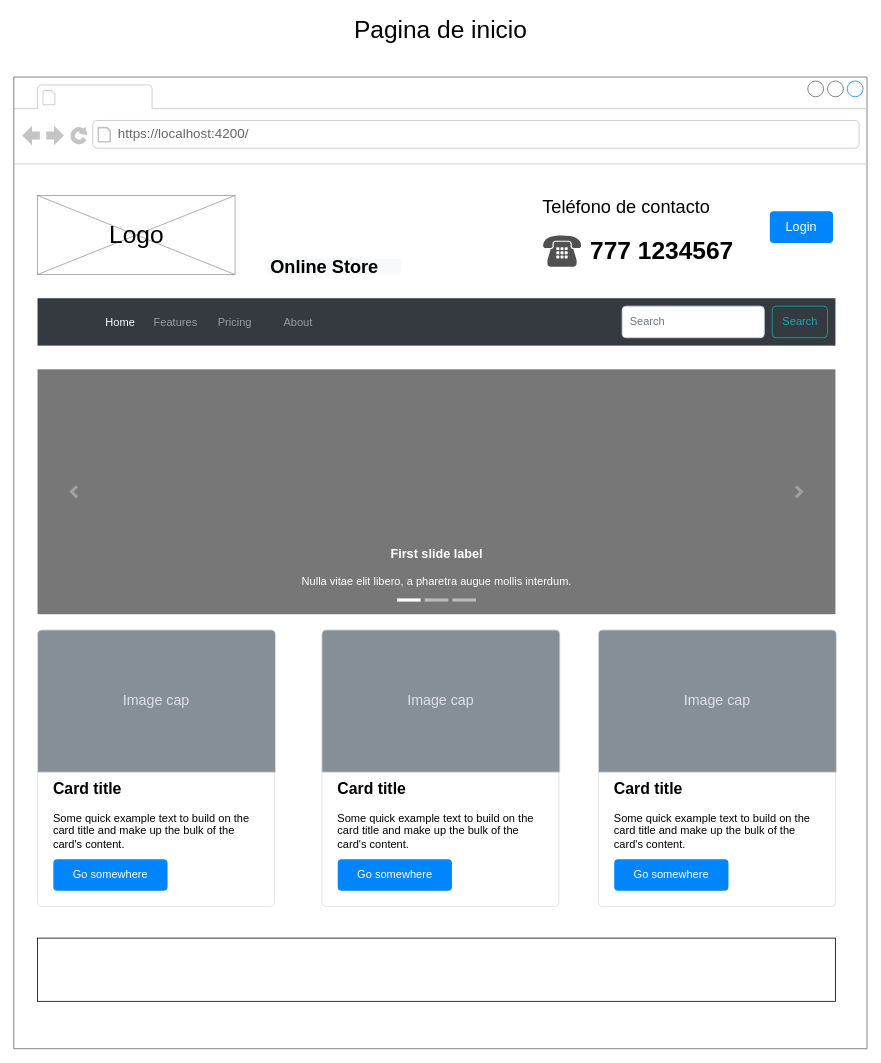
Image size: 881x1063. Some labels were removed from this diagram. The shapes that lost their labels are listed below. From the top down, each one's centre as x and y in pixels, then its label:
At pixel 104 96: "Inicio | PetSt".
At pixel 436 321: "Navbar".
At pixel 436 491: "First slide".
At pixel 436 969: "Pie de página".
